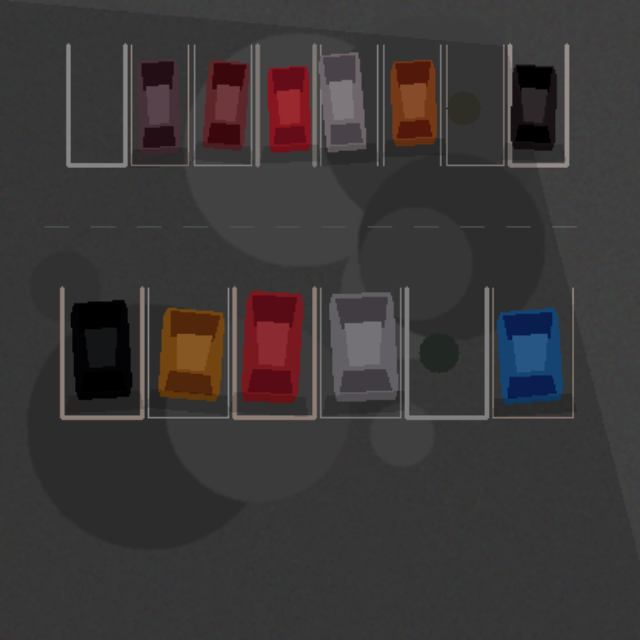space-empty: (406, 288, 486, 417), (68, 45, 125, 165), (446, 45, 503, 165)
space-occupied: (62, 288, 142, 417), (148, 288, 228, 417), (234, 288, 314, 417), (320, 288, 400, 417), (492, 288, 572, 417), (131, 45, 188, 165), (194, 45, 251, 165), (257, 45, 314, 165), (320, 45, 377, 165), (383, 45, 440, 165), (509, 45, 566, 165)
